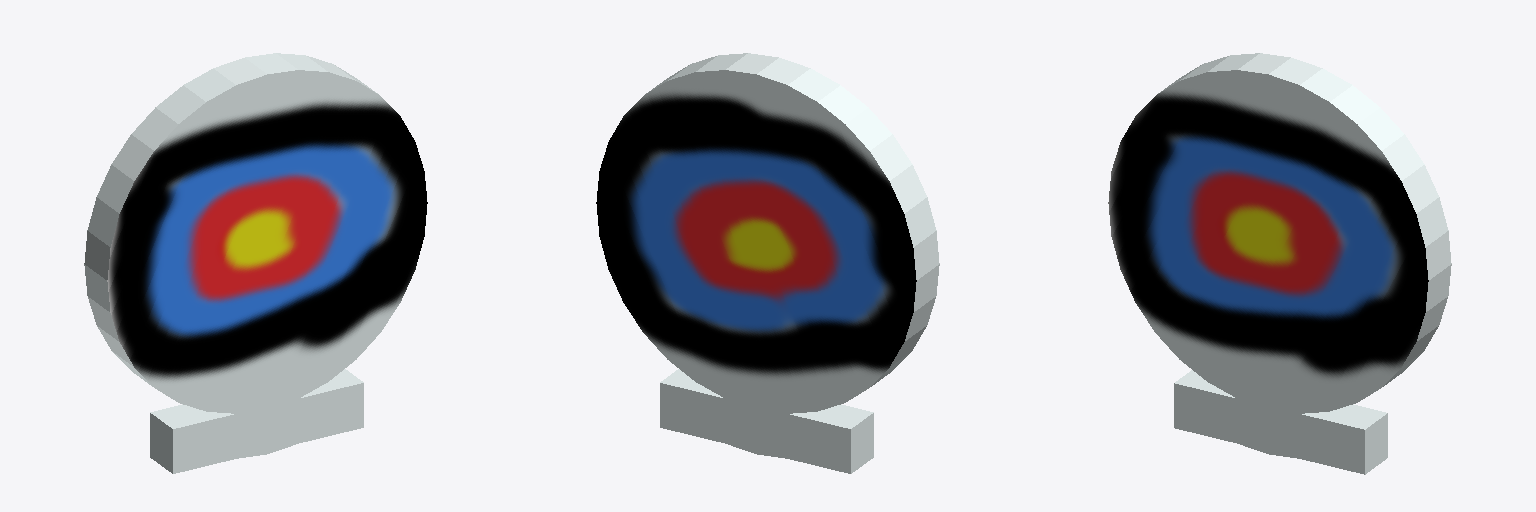
3 views of the same model, side by side, from view 1: azimuth 30°, elevation 25°; view 2: azimuth 150°, elevation 25°; view 3: azimuth 330°, elevation 25° (orthographic).
Parts seen in each view (by area): view 1: Cylinder; view 2: Cylinder; view 3: Cylinder.
Boxes of the visible parts, x1,y1,x2,y2 form: Cylinder: [84, 53, 427, 473]; Cylinder: [596, 53, 939, 473]; Cylinder: [1108, 53, 1451, 474].
Size of the model in its own units: 2 by 2.27 by 0.2497.
1 materials, 1 textured.